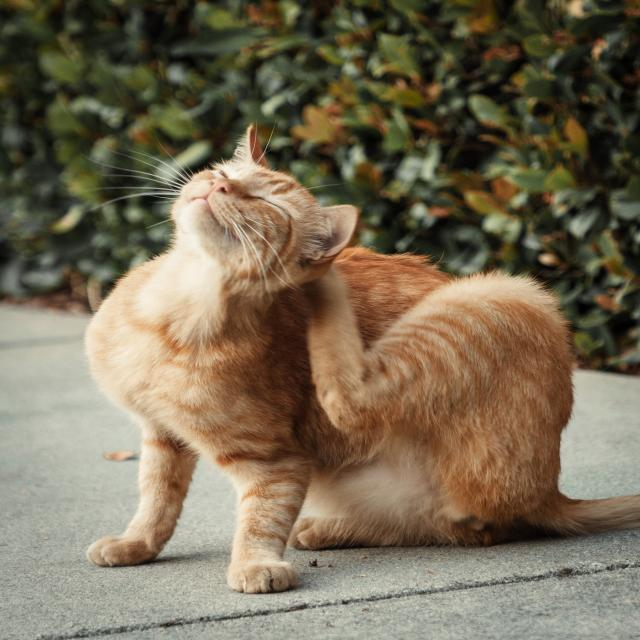cat: (86, 128, 638, 592)
